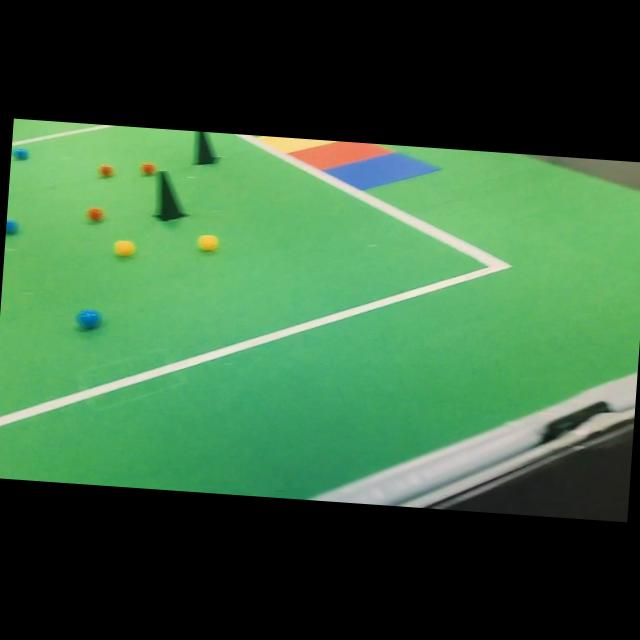ball: (76, 309, 101, 329), (113, 240, 135, 256), (197, 235, 218, 250), (86, 207, 103, 220), (12, 147, 28, 160), (5, 219, 18, 234), (139, 162, 155, 174), (98, 164, 114, 176)
goal: (326, 152, 438, 189), (290, 141, 392, 170), (258, 135, 335, 152)
